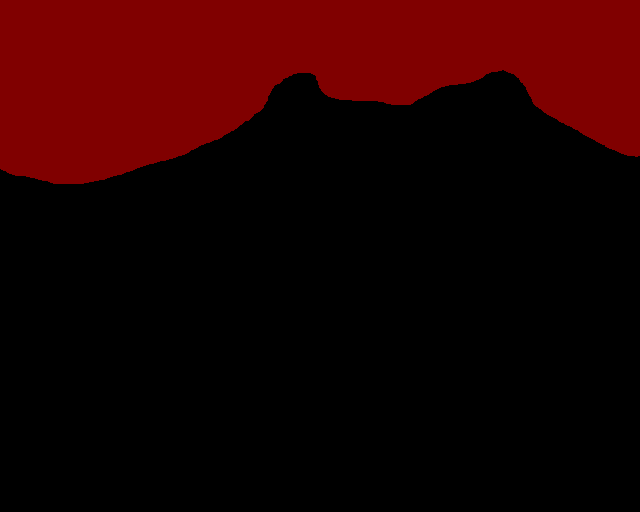Sky: (1, 1, 639, 184)
